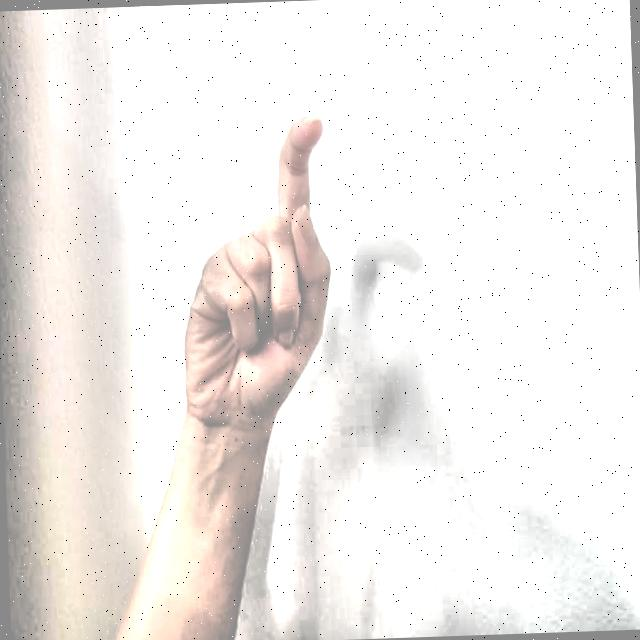E: (143, 88, 354, 440)
